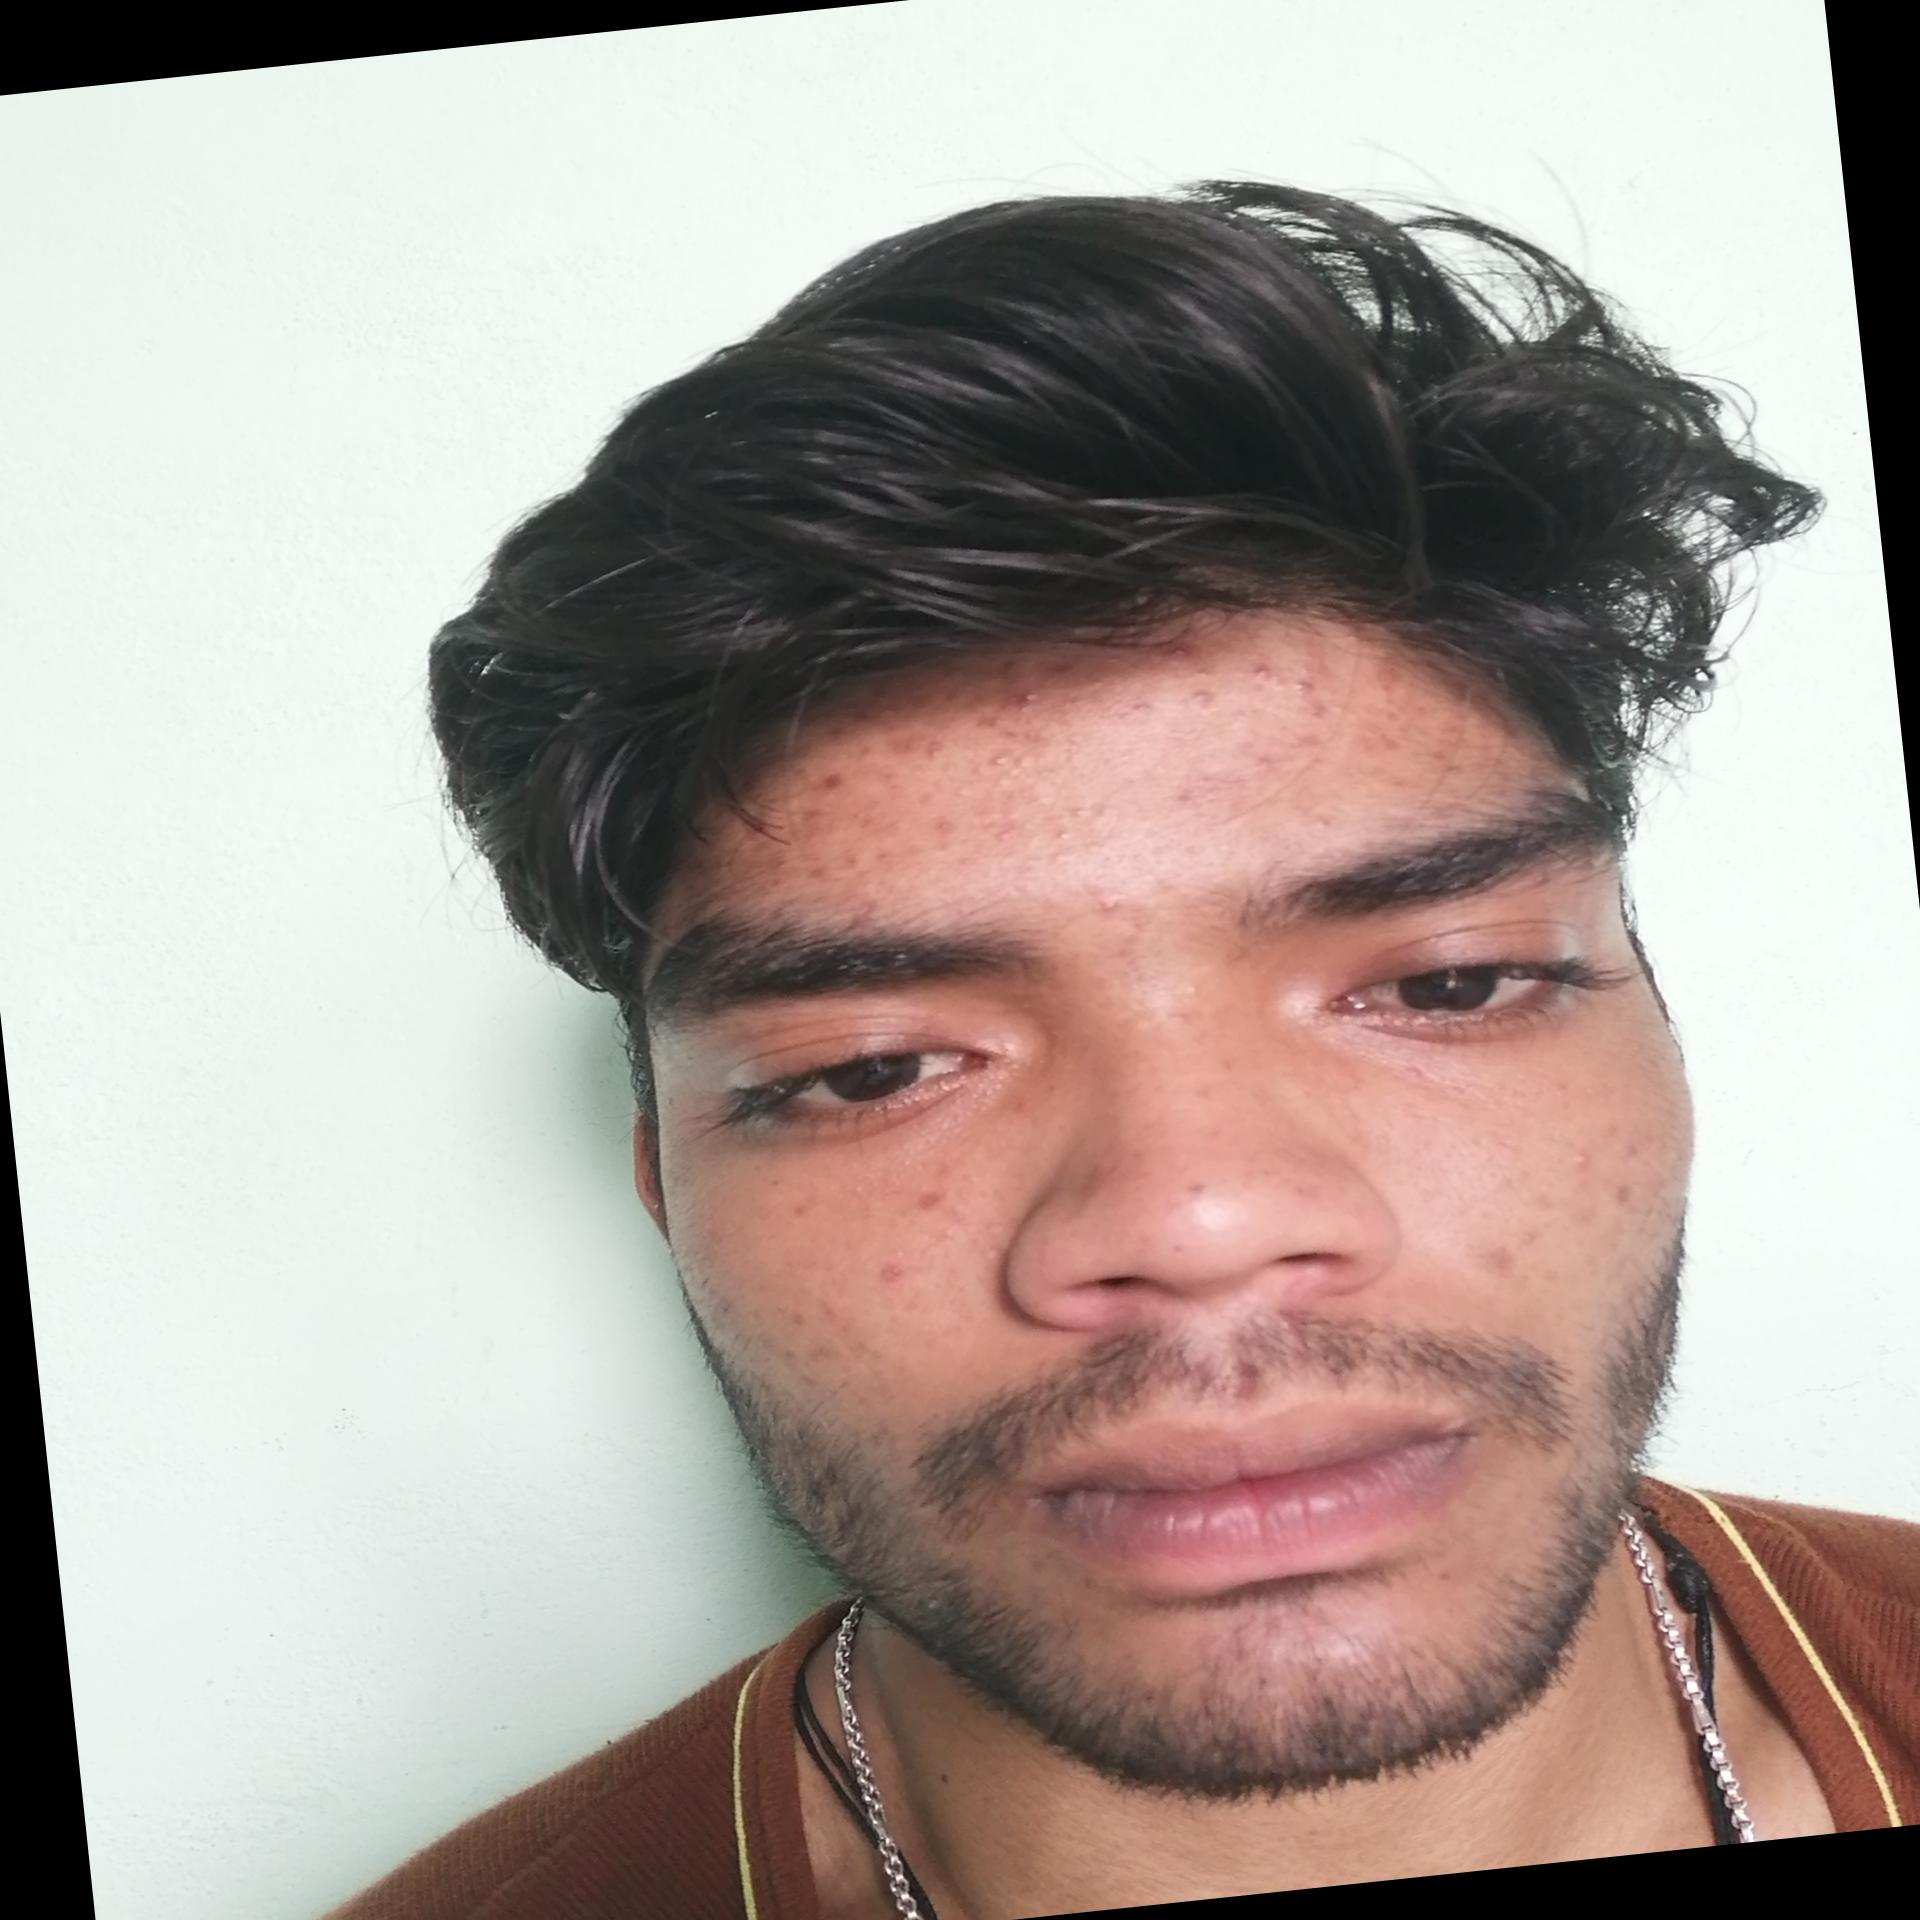Acne: (907, 659, 1146, 876), (788, 724, 920, 913), (1124, 649, 1336, 751), (1169, 744, 1312, 839), (1336, 700, 1472, 798), (1554, 1134, 1647, 1213), (761, 1289, 842, 1368), (879, 1185, 967, 1247), (1468, 1227, 1544, 1285), (851, 1255, 930, 1296), (1078, 883, 1138, 930), (1157, 636, 1208, 682)
Englarged Pores: (1377, 1120, 1498, 1213)
